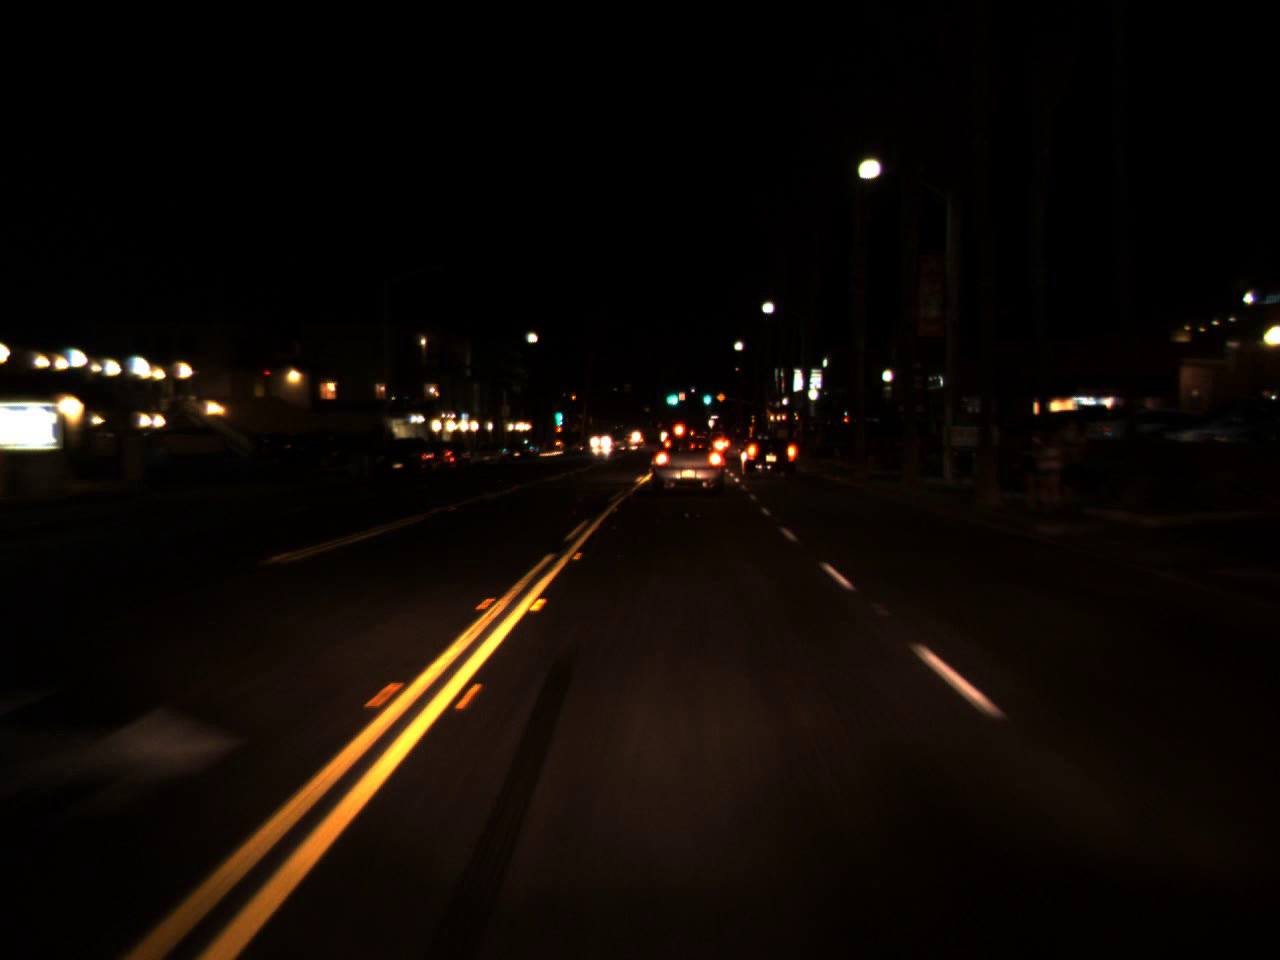go: (663, 384, 681, 408), (553, 399, 563, 429), (700, 387, 712, 405)
